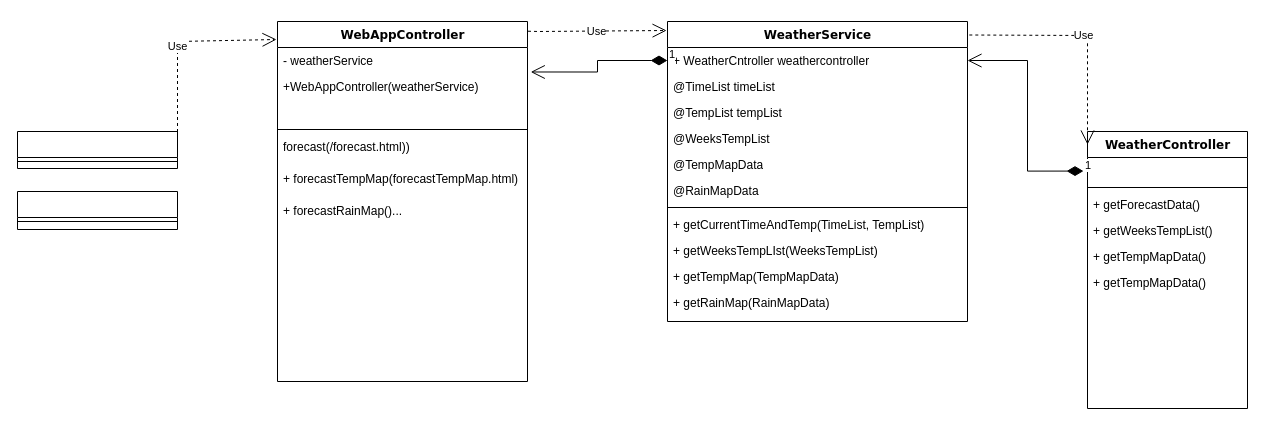
The diagram is 1265 pixels wide and 426 high, and some of its shapes have lost their labels. Each missing label, with the box of its shape:
HtmlStuff: (16, 190, 178, 230)
WeatherApp: (16, 130, 178, 168)
